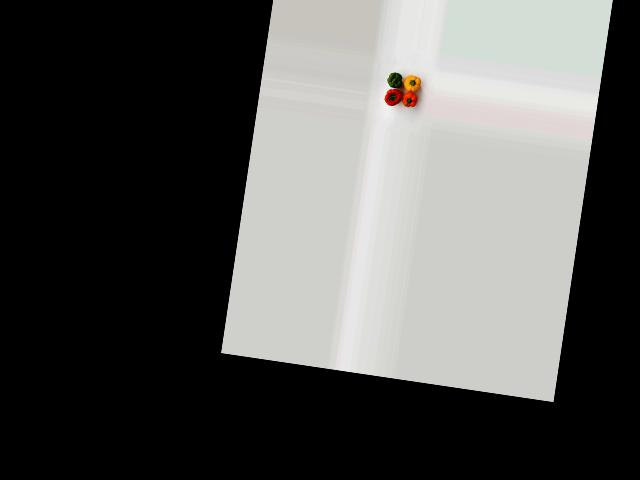bell_pepper: (384, 66, 406, 93)
